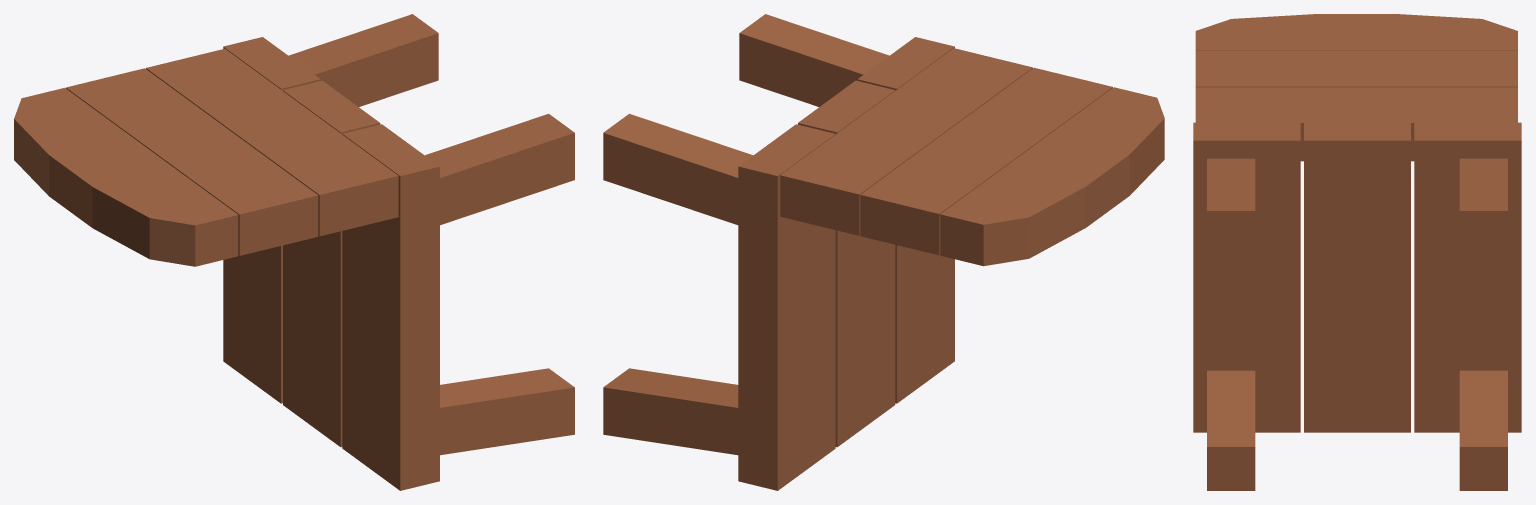
File: chair.glb
3 renders of one model, left to right at view 1: azimuth 30°, elevation 25°; view 2: azimuth 150°, elevation 25°; view 3: azimuth 270°, elevation 25°, orthographic. The views are drawn at different scales.
Parts seen in each view (by area): view 1: chair; view 2: chair; view 3: chair.
Part boxes in pixels (left/top/right/bottom): chair: left=14, top=14, right=574, bottom=490; chair: left=603, top=14, right=1164, bottom=490; chair: left=1193, top=14, right=1521, bottom=490.
Bounding box in the file's own units: 0.3791 × 0.2695 × 0.2747.
1 material, 1 textured.
